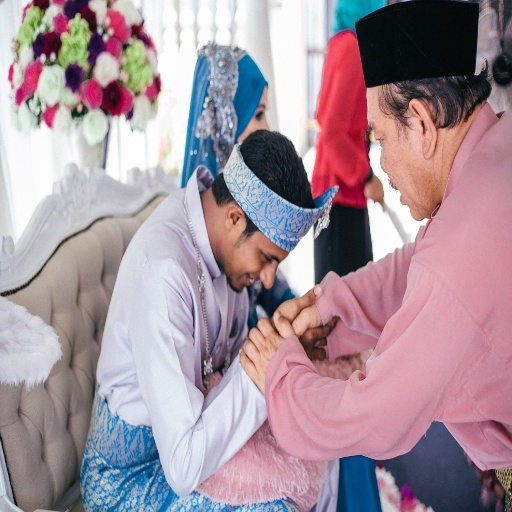hand: (268, 285, 340, 357), (238, 309, 294, 395), (289, 302, 323, 337), (364, 172, 384, 205)
